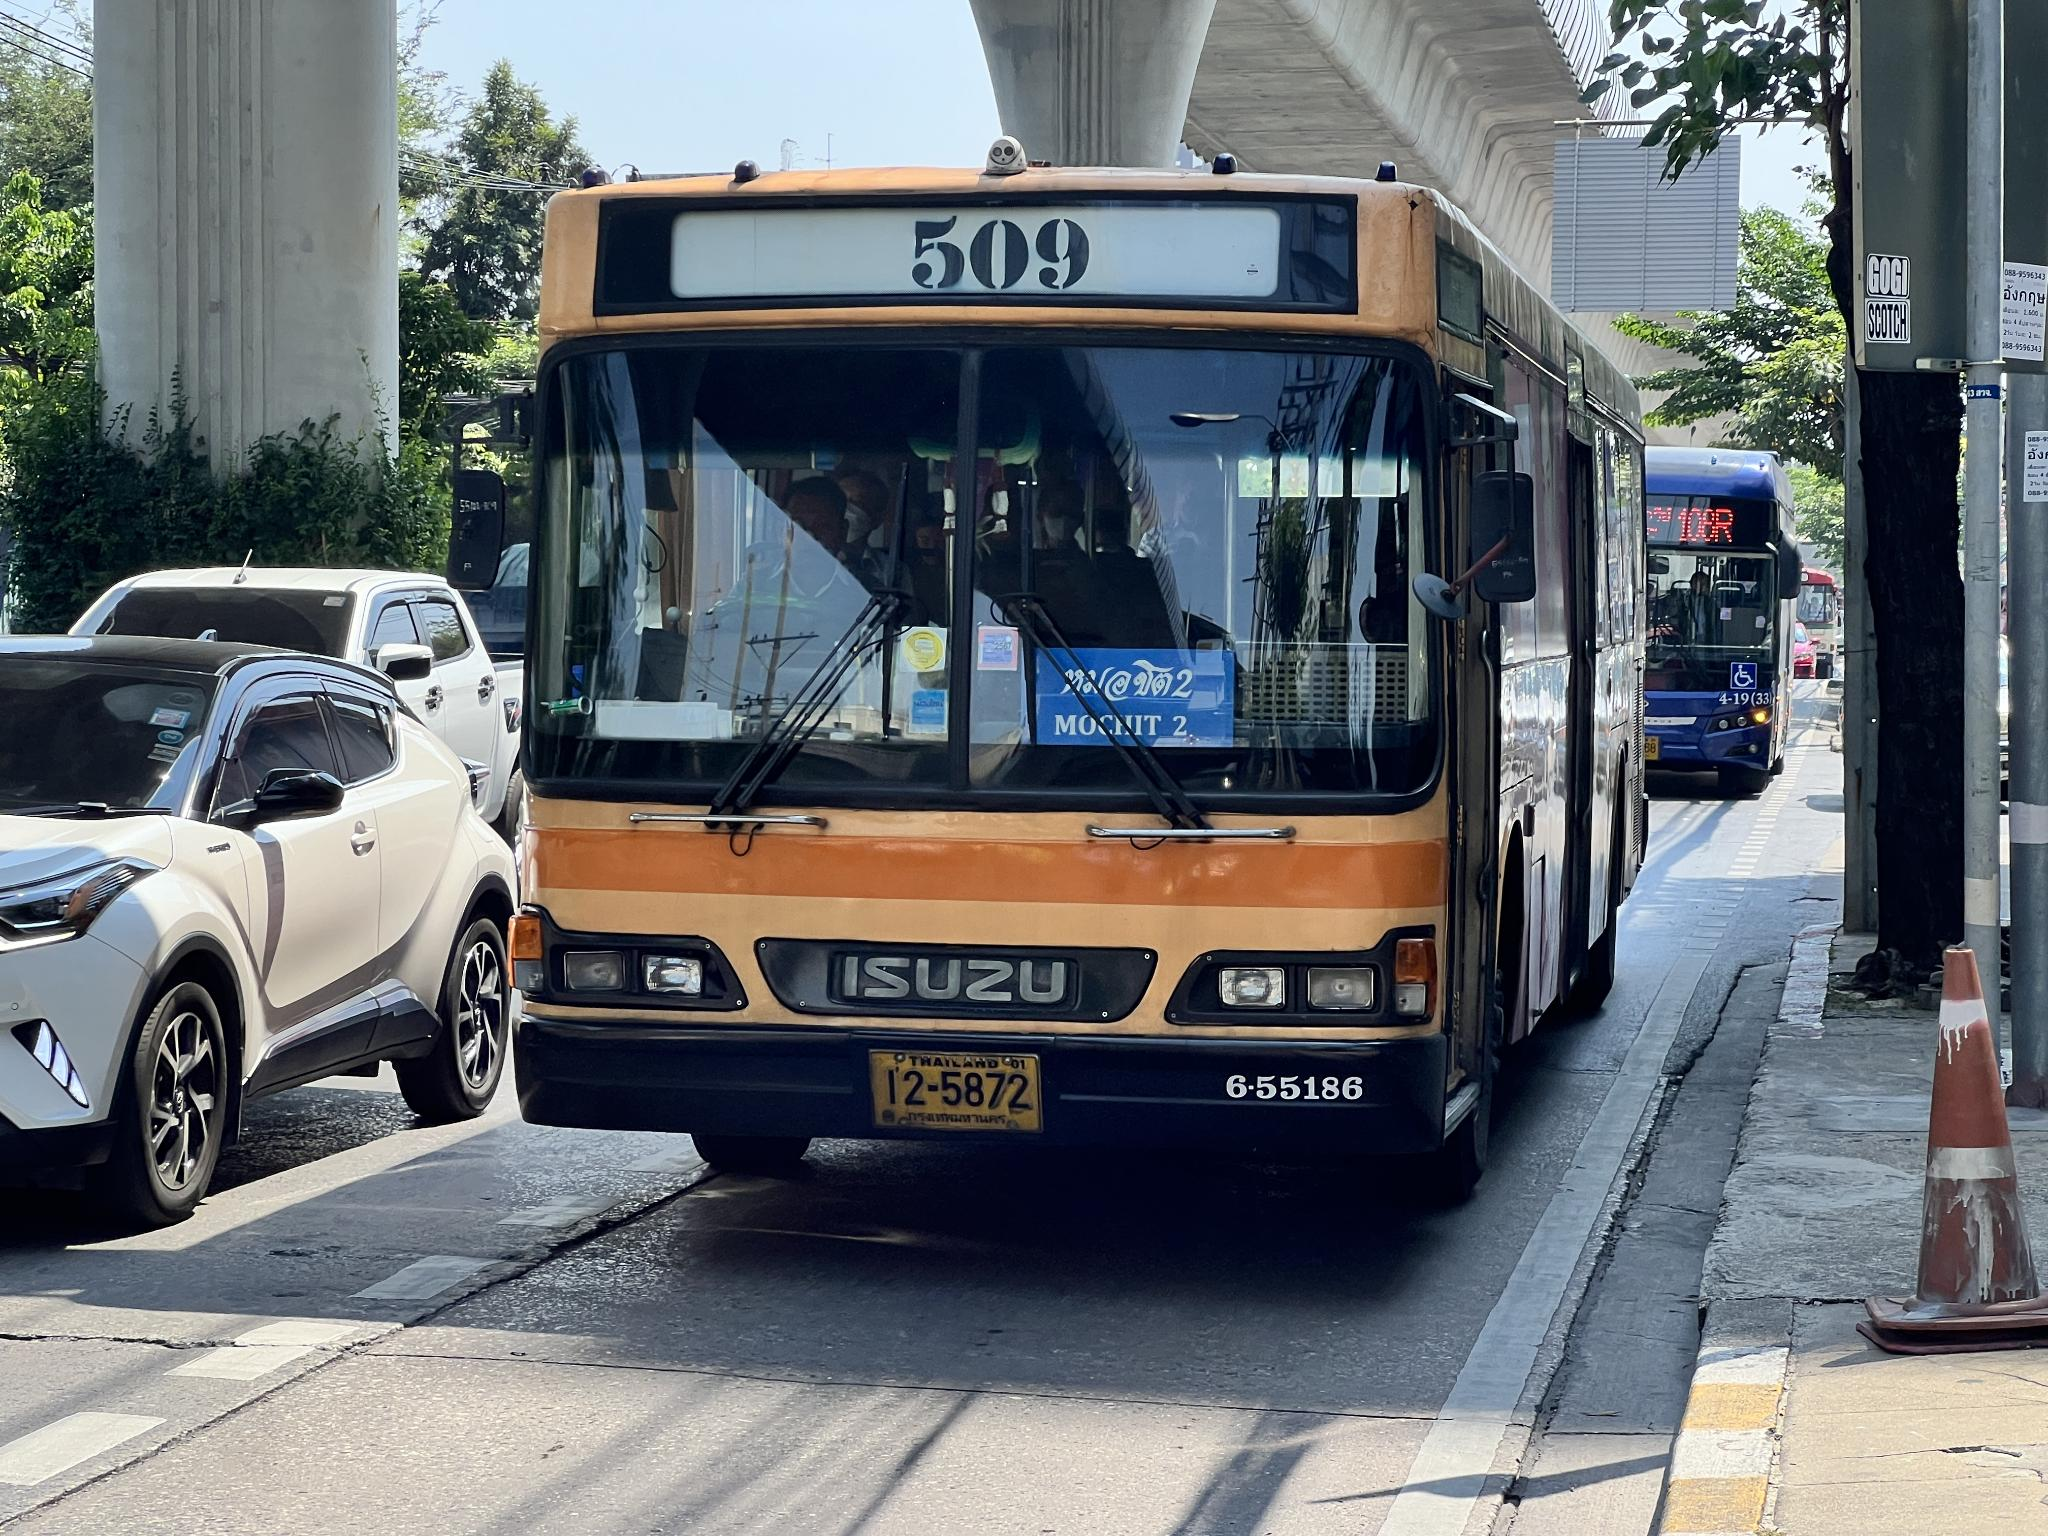BMTA-bus: (513, 160, 1646, 1186)
Bus Line Number: (880, 205, 1114, 311), (1672, 503, 1740, 547)
Bus Side Number: (1216, 1066, 1371, 1108), (1719, 689, 1775, 707)
Destination Sign: (1032, 650, 1235, 749)
TSB-Bus: (1642, 445, 1803, 802)
